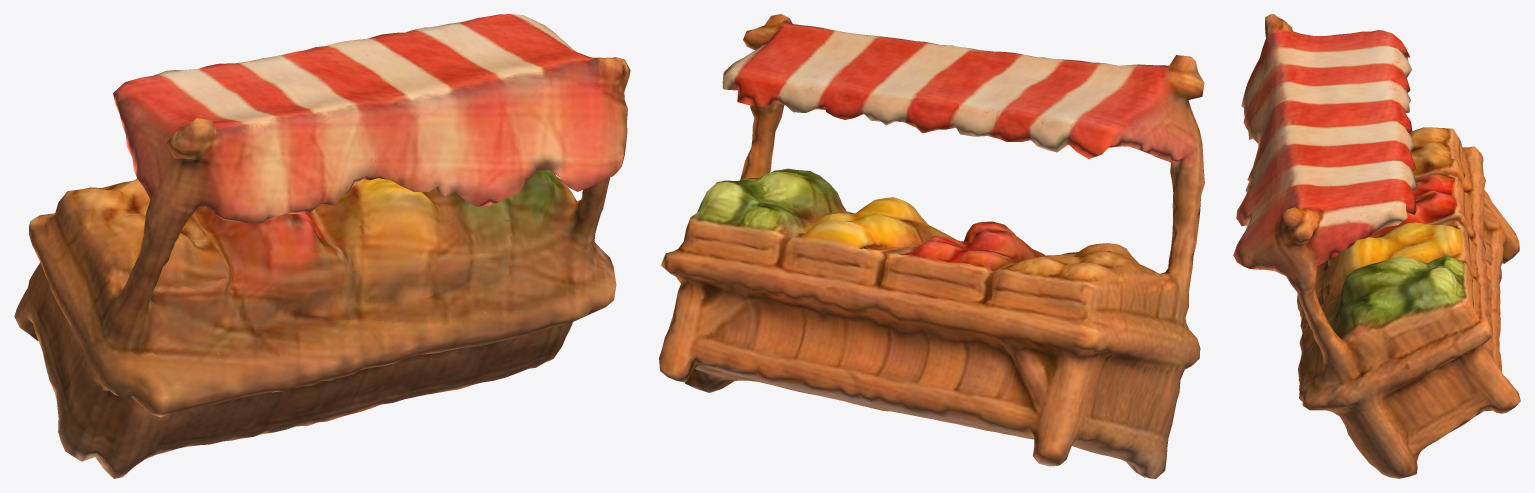
File: market.glb
3 views of the same model, side by side, from view 1: azimuth 30°, elevation 25°; view 2: azimuth 150°, elevation 25°; view 3: azimuth 270°, elevation 25° (orthographic). The views are drawn at different scales.
Parts seen in each view (by area): view 1: world; view 2: world; view 3: world.
Part boxes in pixels (x1=…): world: x1=14, y1=14, x2=630, y2=478; world: x1=659, y1=14, x2=1204, y2=478; world: x1=1233, y1=14, x2=1520, y2=478.
Size of the model in its own units: 3.45 by 2.6 by 2.22.
1 material, 1 textured.
